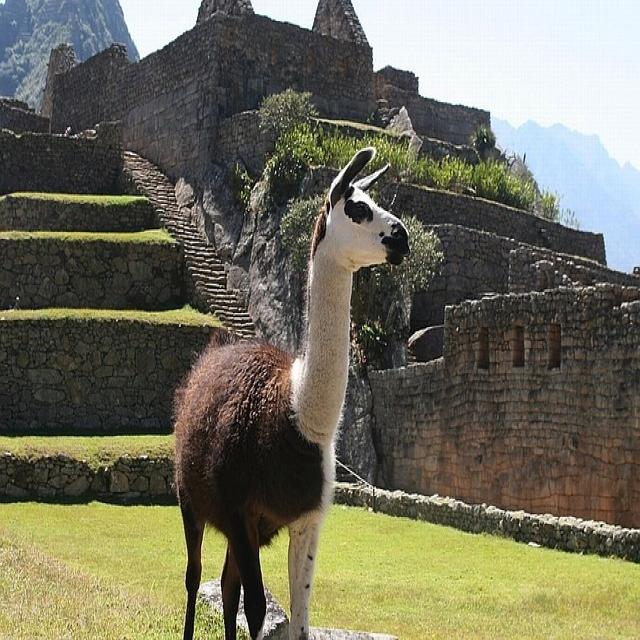Herbivorous: (173, 148, 411, 640)
